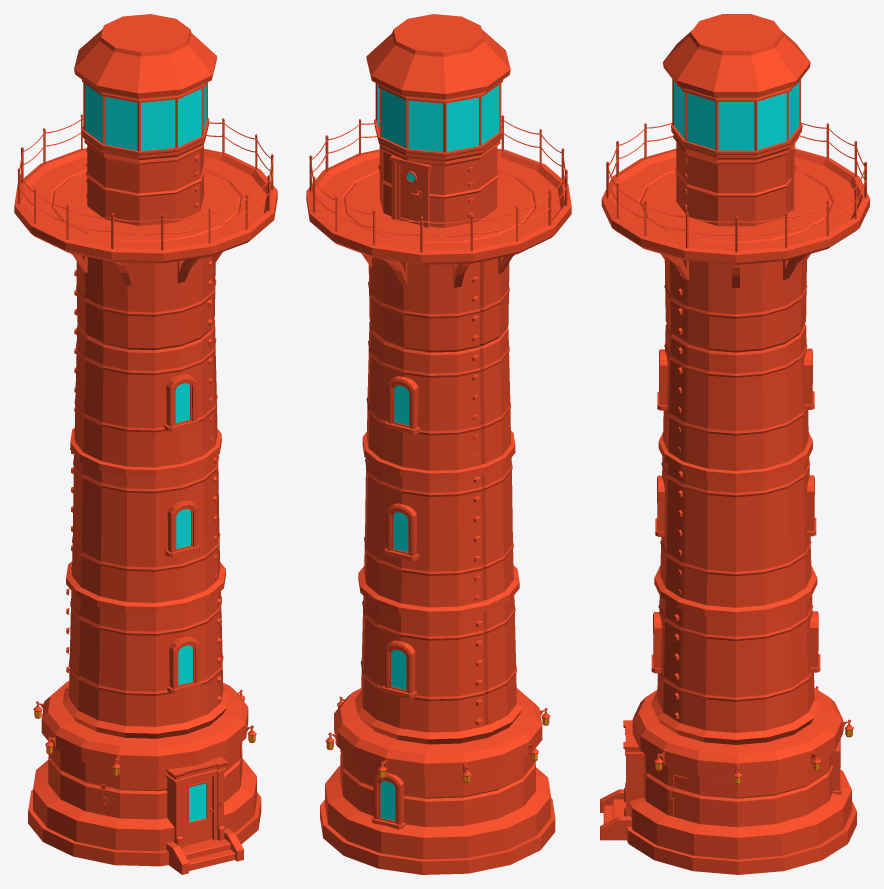
The model's file is SM_Lighthouse_A_City.fbx.
The picture shows the model from 3 angles, left to right: view 1: azimuth 30°, elevation 25°; view 2: azimuth 150°, elevation 25°; view 3: azimuth 270°, elevation 25°; orthographic projection.
Parts seen in each view (by area): view 1: SM_Lighthouse_A_City; view 2: SM_Lighthouse_A_City; view 3: SM_Lighthouse_A_City.
Boxes of the visible parts, x1,y1,x2,y2 form: SM_Lighthouse_A_City: [14, 14, 277, 874]; SM_Lighthouse_A_City: [306, 14, 571, 874]; SM_Lighthouse_A_City: [600, 14, 869, 874].
Bounding box in the file's own units: 7.86 × 25.62 × 7.91.
